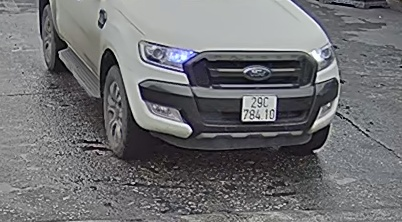vehicle plate: (238, 93, 281, 124)
